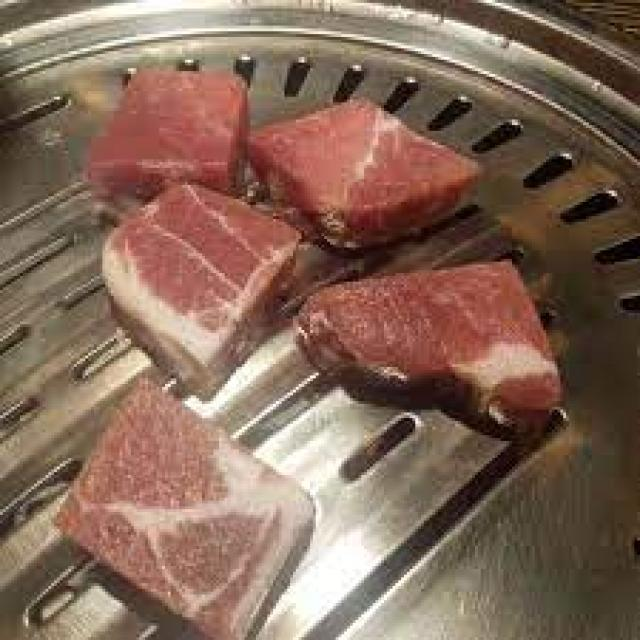pork: (57, 379, 316, 638), (296, 262, 563, 438), (102, 184, 302, 393)
